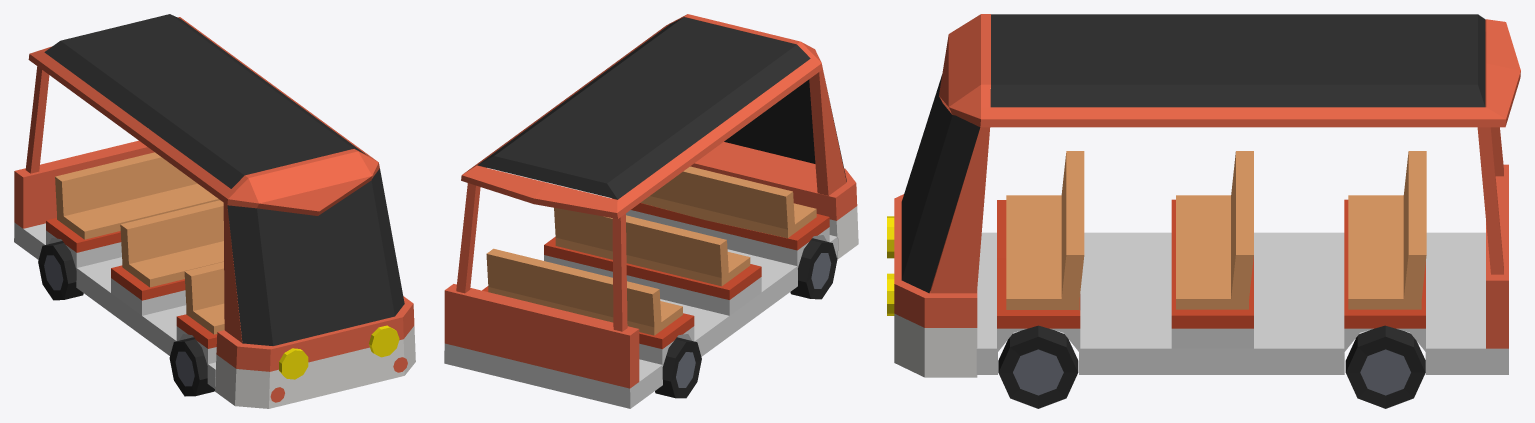
File: Car_A.FBX
3 renders of one model, left to right at view 1: azimuth 30°, elevation 25°; view 2: azimuth 150°, elevation 25°; view 3: azimuth 270°, elevation 25°, orthographic. The views are drawn at different scales.
Visible parts, largest first — view 1: Car_A; view 2: Car_A; view 3: Car_A.
Boxes of the visible parts, x1,y1,x2,y2 form: Car_A: [14, 14, 415, 408]; Car_A: [444, 14, 858, 408]; Car_A: [887, 14, 1520, 408].
Bounding box in the file's own units: 442 × 483 × 939.
